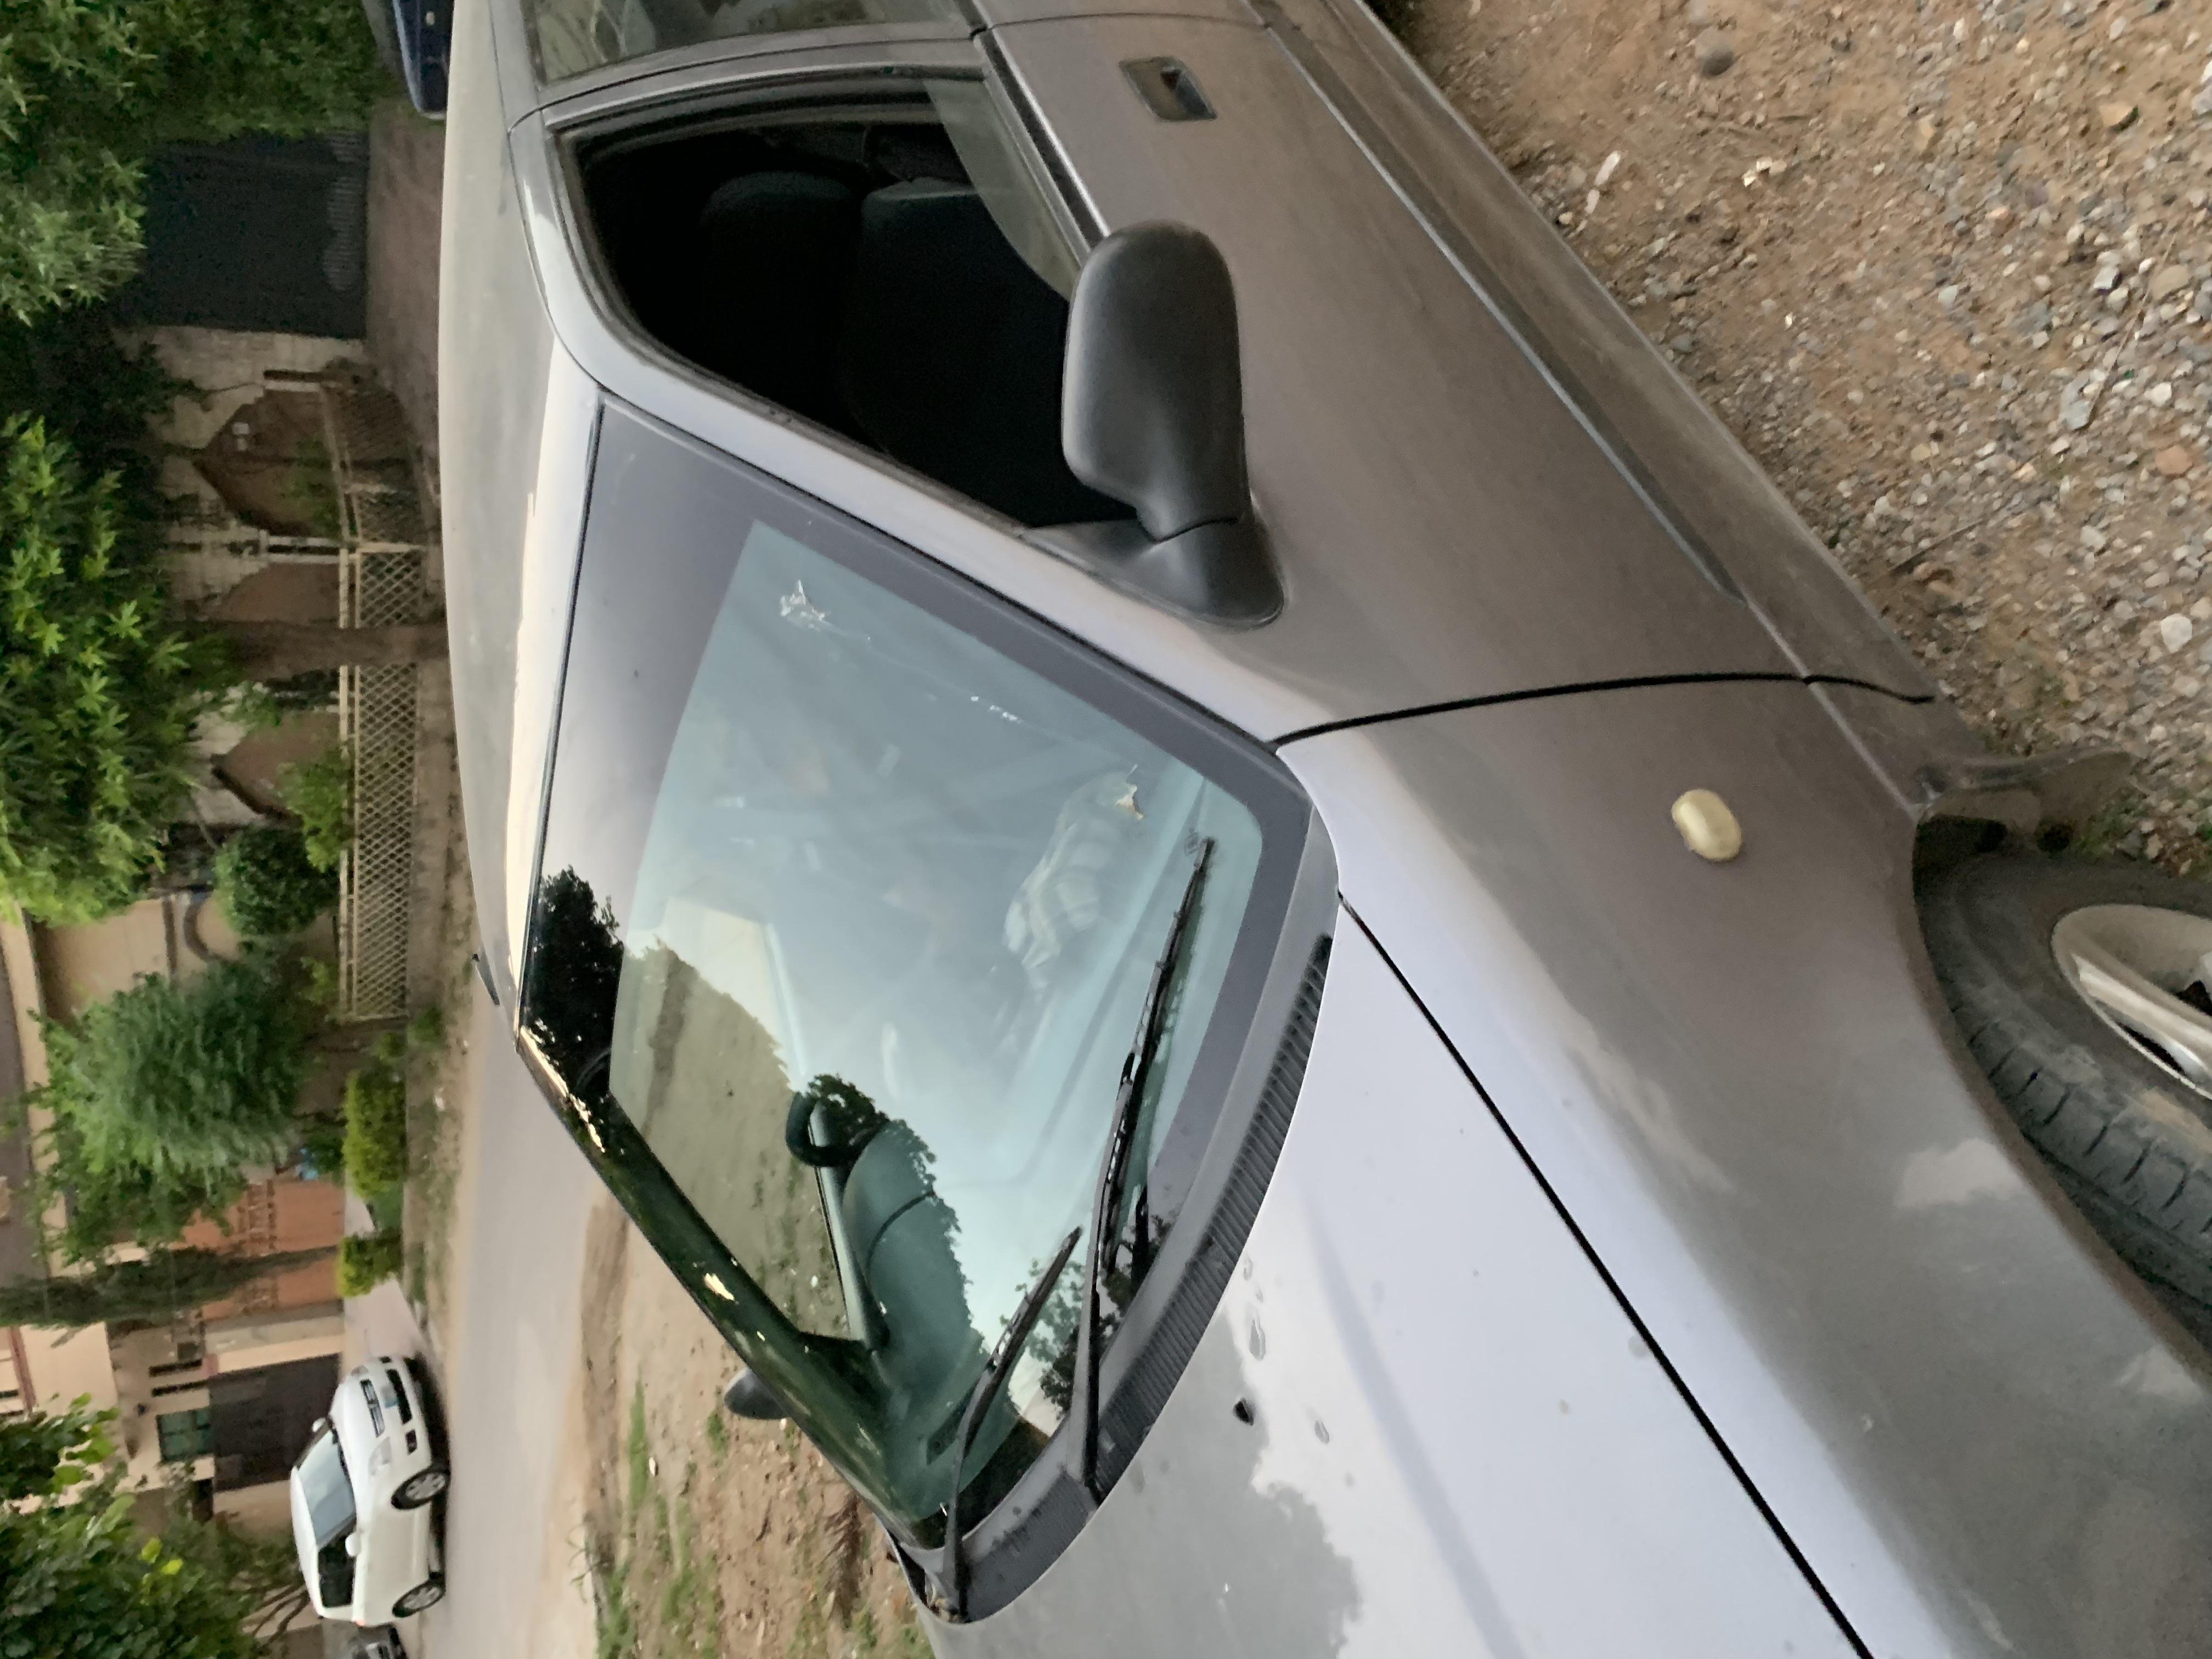windshield: (38, 375, 1735, 1016)
